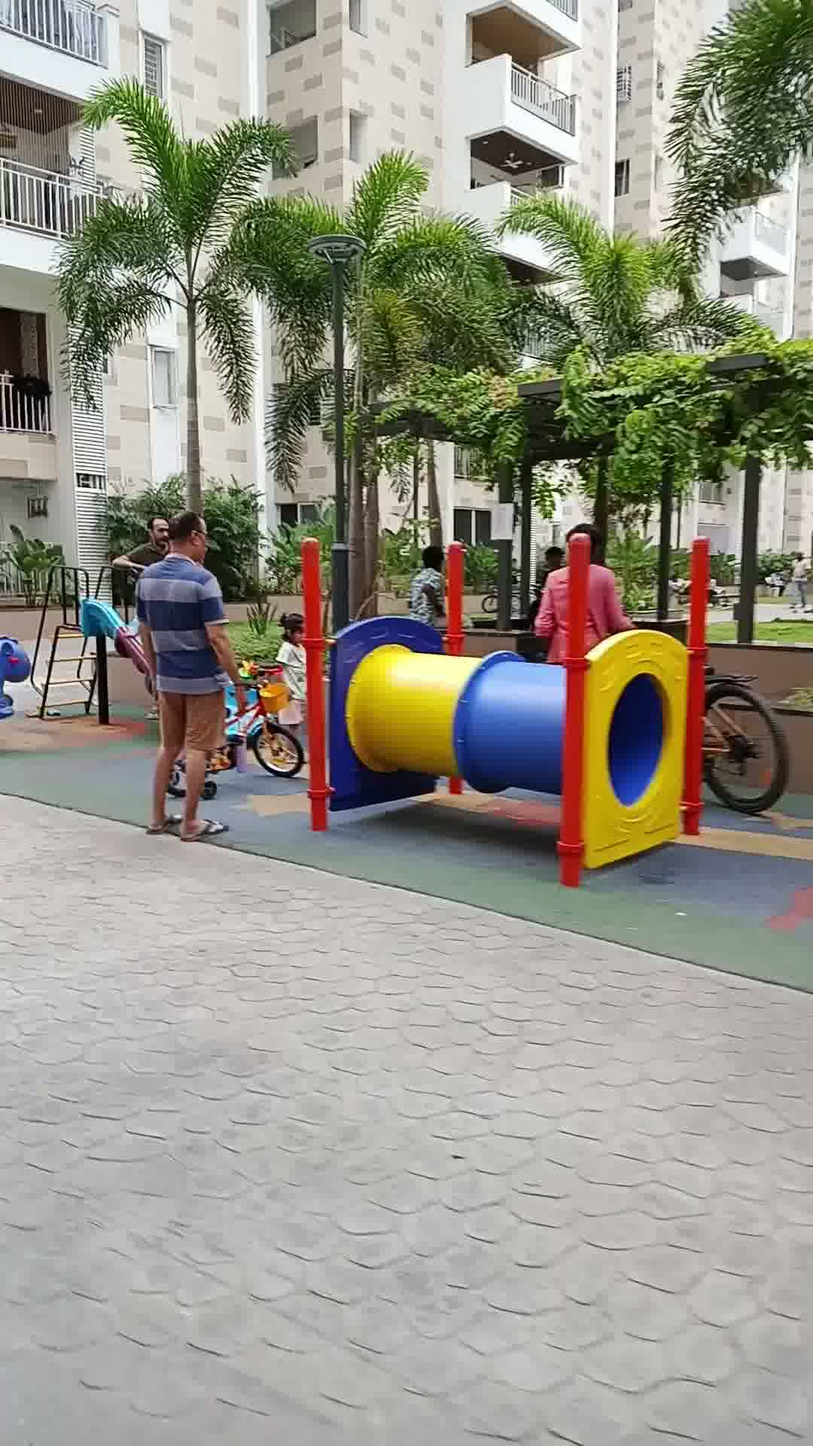bicycle: (671, 640, 788, 808), (205, 660, 307, 777)
person: (139, 478, 245, 874), (532, 484, 623, 706), (270, 589, 327, 771), (407, 521, 461, 658), (102, 495, 168, 578)
tree: (57, 40, 287, 635), (236, 139, 509, 635), (512, 142, 680, 376)
